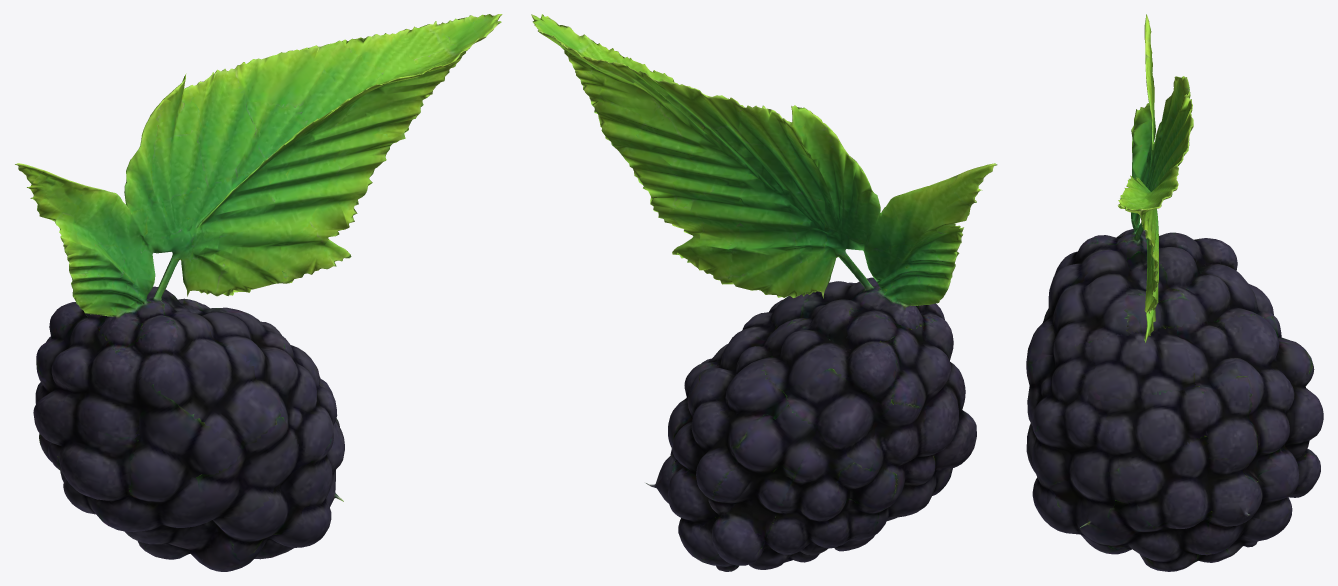
File: Wildberry.glb
3 views of the same model, side by side, from view 1: azimuth 30°, elevation 25°; view 2: azimuth 150°, elevation 25°; view 3: azimuth 270°, elevation 25° (orthographic). The views are drawn at different scales.
Parts seen in each view (by area): view 1: mesh_node; view 2: mesh_node; view 3: mesh_node.
Boxes of the visible parts, left/top/right/bottom form: mesh_node: left=15, top=14, right=502, bottom=571; mesh_node: left=531, top=14, right=997, bottom=571; mesh_node: left=1026, top=14, right=1323, bottom=571.
Bounding box in the file's own units: 1.88 × 1.79 × 1.03.
1 material, 1 textured.
